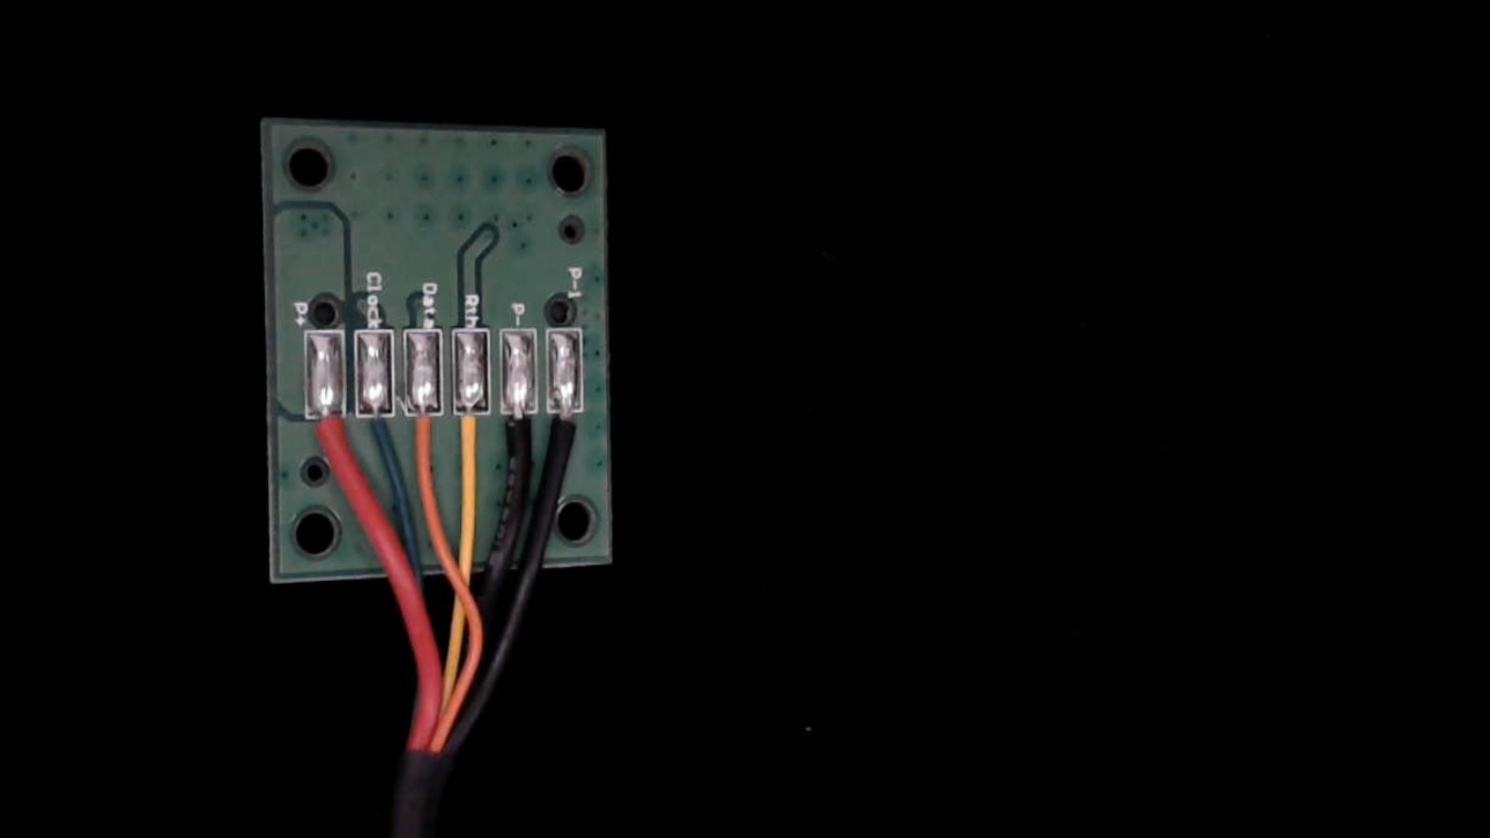Black: (498, 385, 539, 484)
Black1: (546, 387, 586, 477)
Green: (355, 382, 398, 476)
Orange: (403, 387, 443, 484)
Red: (305, 390, 348, 484)
Yellow: (452, 388, 493, 488)
